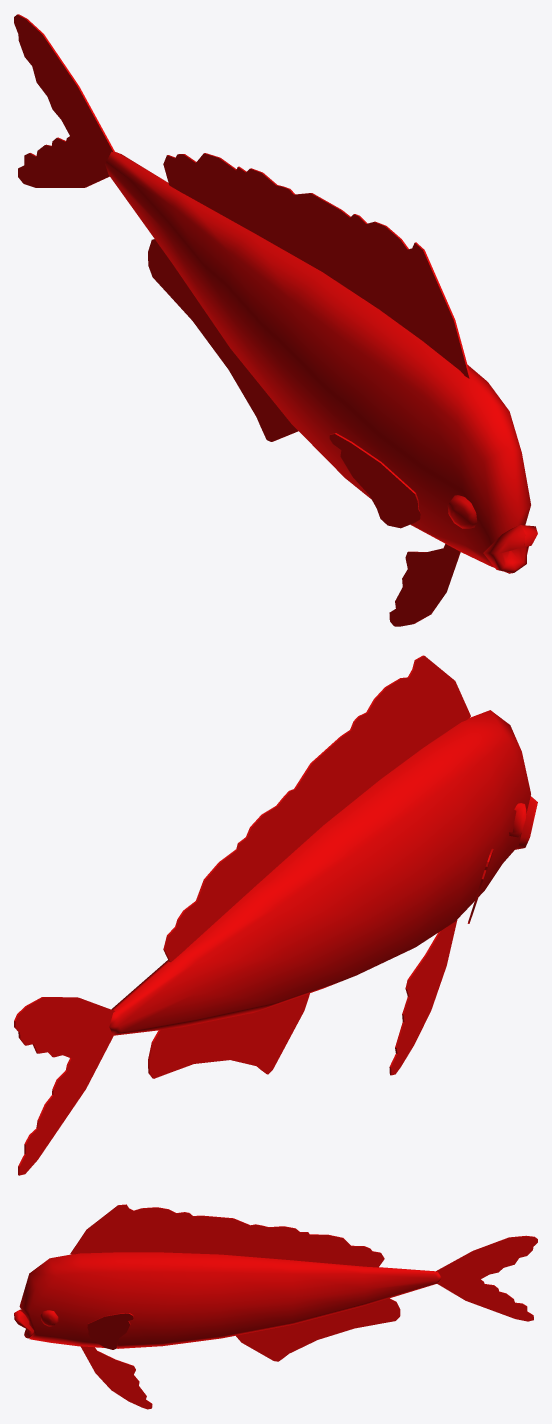
3 renders of one model, top to bottom at view 1: azimuth 30°, elevation 25°; view 2: azimuth 150°, elevation 25°; view 3: azimuth 270°, elevation 25°, orthographic. The views are drawn at different scales.
Parts seen in each view (by area): view 1: Fish_MahiMahi; view 2: Fish_MahiMahi; view 3: Fish_MahiMahi.
Part boxes in pixels (box(x1,y1,x2,y2)): Fish_MahiMahi: box(14, 14, 537, 626); Fish_MahiMahi: box(14, 655, 537, 1175); Fish_MahiMahi: box(14, 1204, 537, 1409).
Bounding box in the file's own units: 0.2861 × 0.6836 × 1.59.
